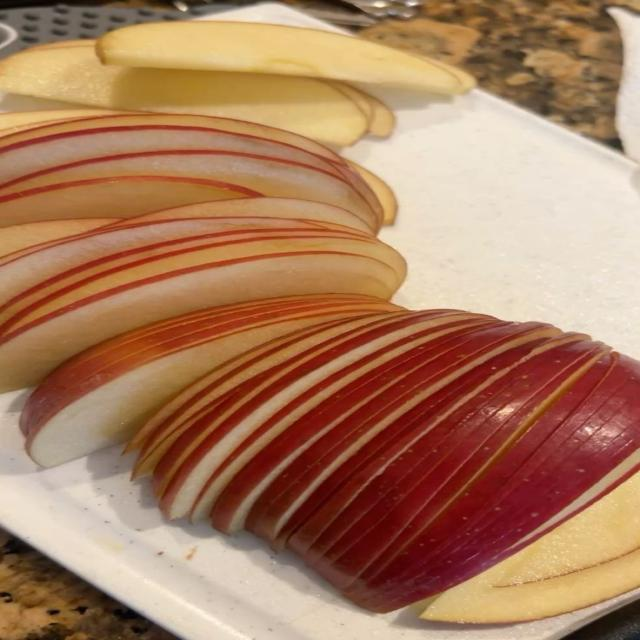apple: (355, 355, 639, 610), (313, 341, 600, 587), (0, 219, 403, 389), (21, 296, 397, 466), (290, 323, 559, 559), (161, 312, 447, 519), (213, 320, 491, 531), (250, 327, 511, 546), (152, 314, 404, 495), (0, 217, 405, 323), (0, 115, 382, 220), (127, 319, 365, 476), (0, 46, 367, 146), (0, 150, 379, 230), (96, 22, 473, 94), (0, 118, 342, 192), (0, 113, 344, 165), (494, 474, 639, 586), (420, 550, 639, 623), (0, 175, 262, 226), (114, 197, 371, 232), (0, 218, 121, 259), (328, 81, 395, 137), (0, 109, 121, 136), (348, 161, 397, 225), (326, 81, 373, 132), (362, 92, 395, 137), (22, 39, 96, 52)
